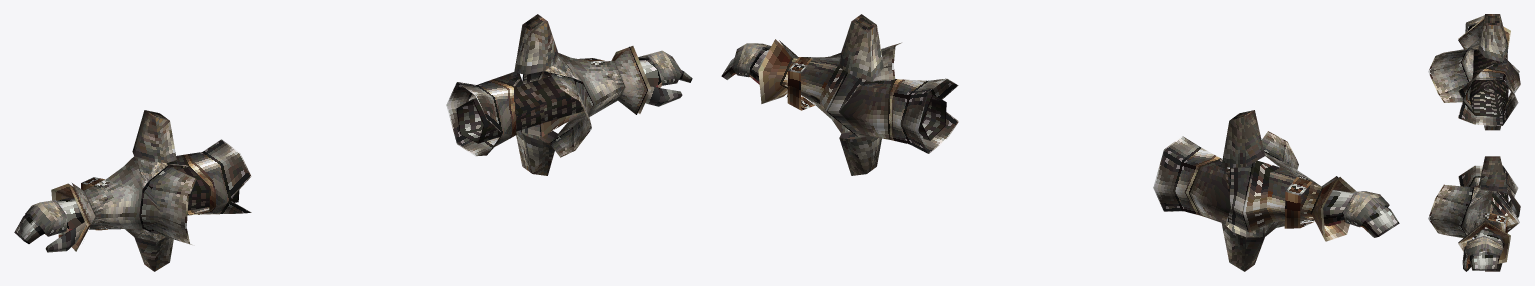
The model's file is f_gauntlet032.obj.
3 renders of one model, left to right at view 1: azimuth 30°, elevation 25°; view 2: azimuth 150°, elevation 25°; view 3: azimuth 270°, elevation 25°, orthographic. The views are drawn at different scales.
Parts seen in each view (by area): view 1: mesh00; view 2: mesh00; view 3: mesh00.
Boxes of the visible parts, box(x1,y1,x2,y2) form: mesh00: box(14, 14, 692, 271); mesh00: box(721, 14, 1399, 271); mesh00: box(1428, 14, 1520, 271).
Size of the model in its own units: 172 by 38.12 by 27.82.
1 material, 1 textured.
